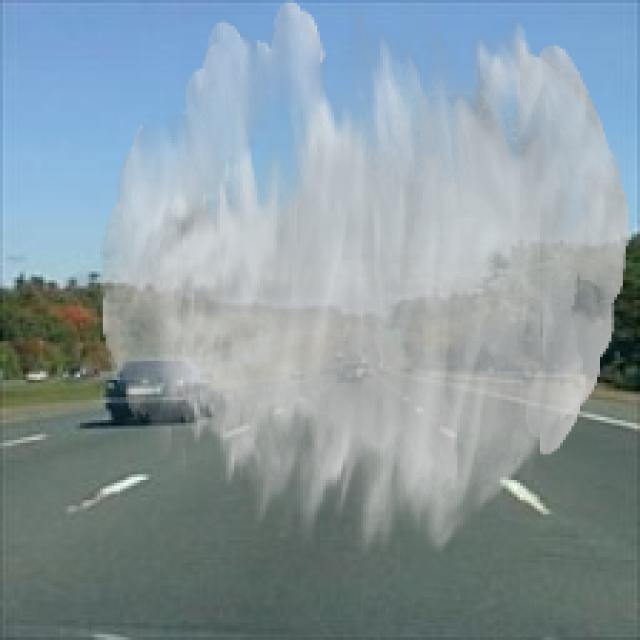smoke: (100, 0, 629, 557)
